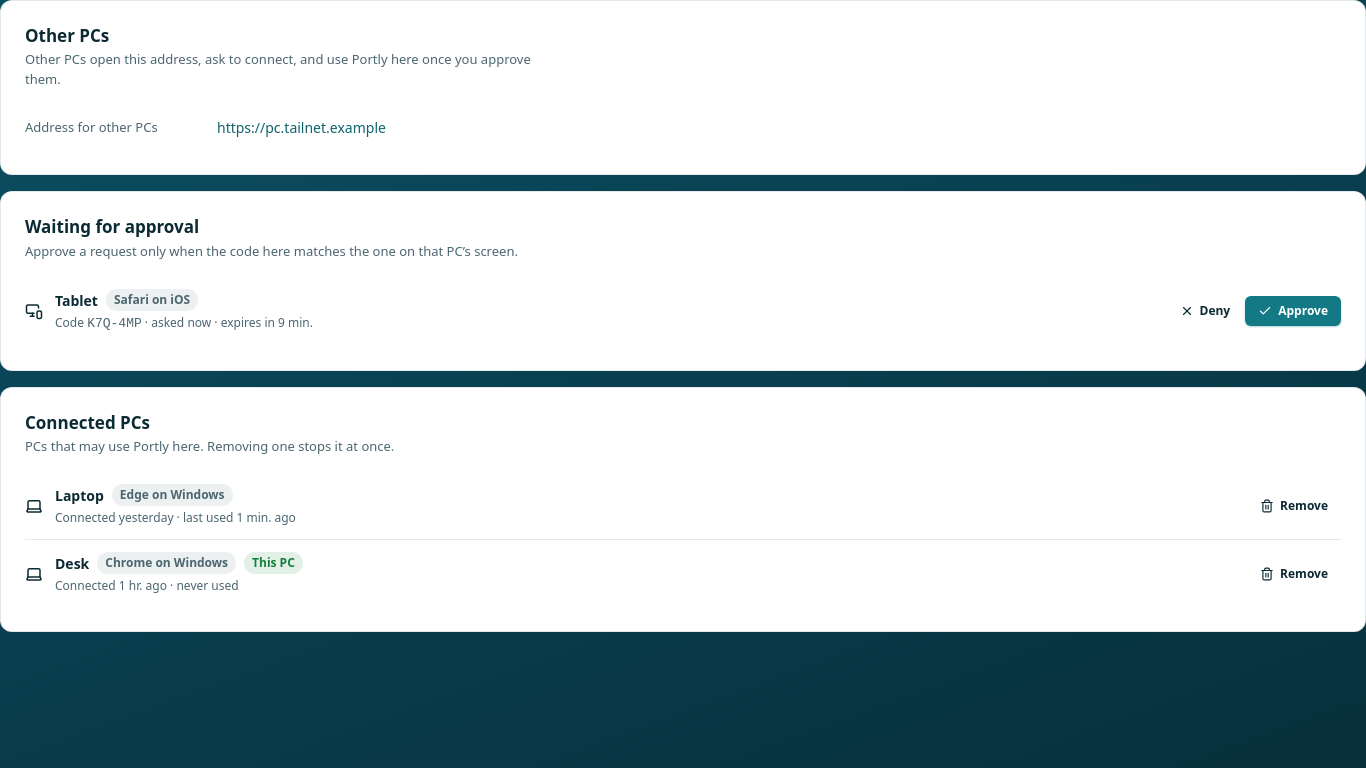
Test: Devices settings › denies a request
This screenshot has width=1366, height=768.
Click the button with aria-label "Deny Tablet" at (1205,311), box [1166,296,1243,326]
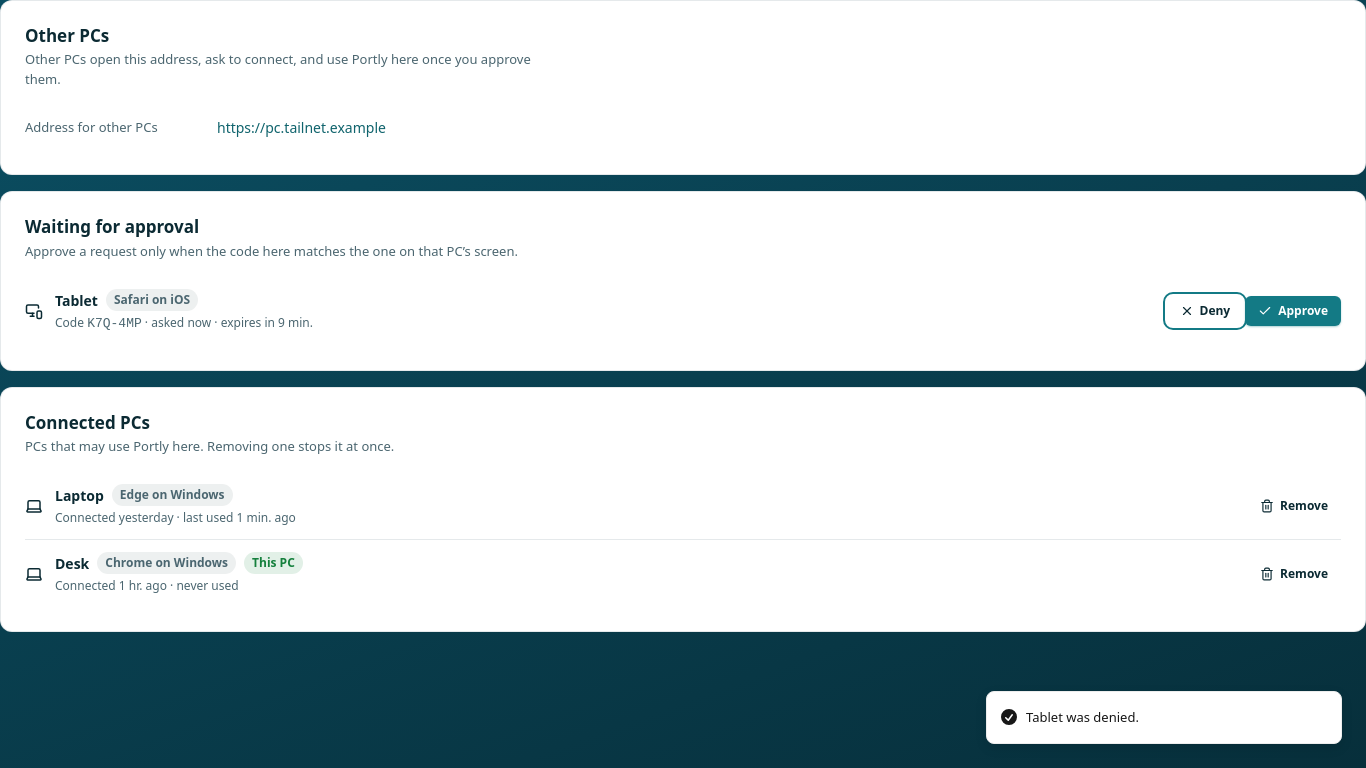
Expected: the text "Tablet was denied." is shown, [1026,708,1139,727]
